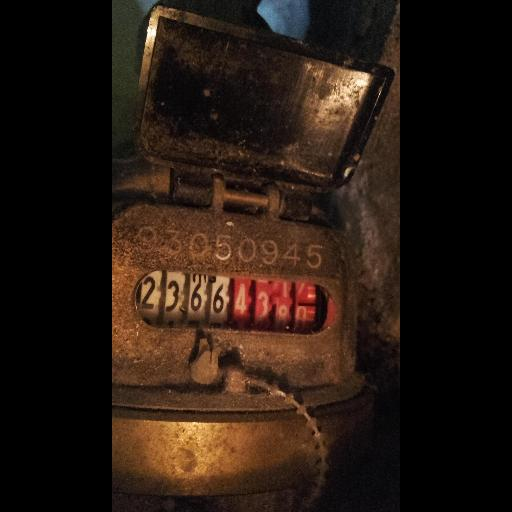2: (137, 268, 159, 326)
3: (162, 271, 186, 329), (254, 279, 272, 332)
4: (230, 278, 252, 333)
6: (187, 273, 208, 329), (208, 275, 229, 330)
7: (273, 280, 293, 335)
9: (292, 282, 313, 337)
border_water_meter_number: (133, 269, 338, 338)
